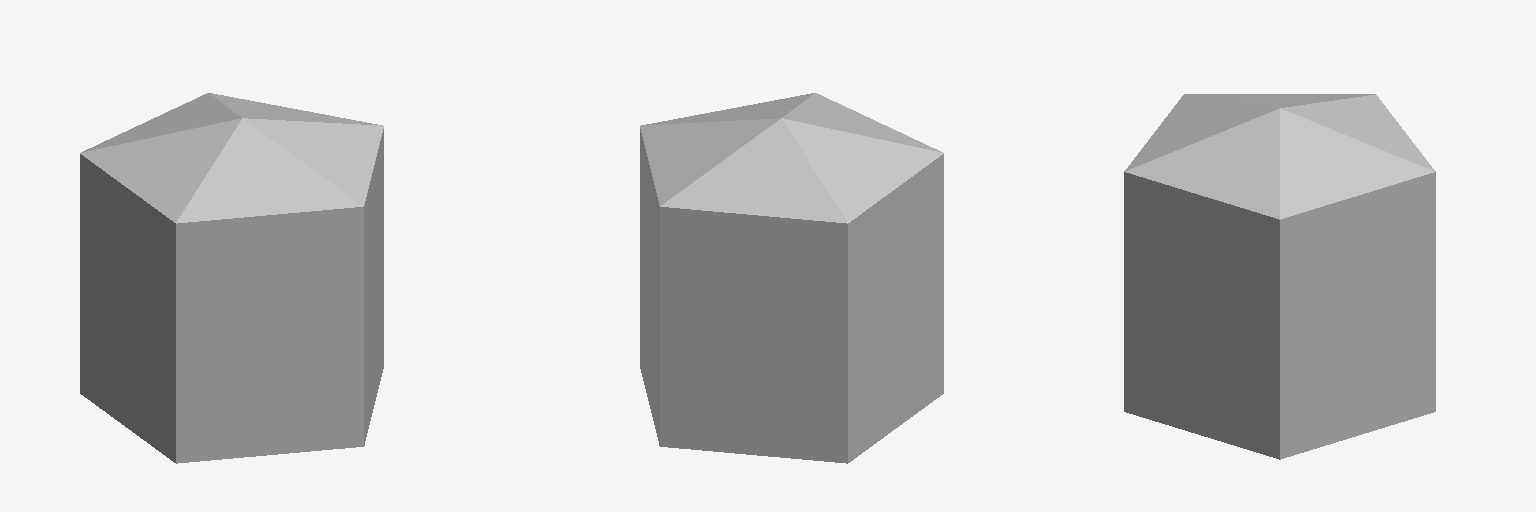
Rendered from bush_monster.obj.
3 renders of one model, left to right at view 1: azimuth 30°, elevation 25°; view 2: azimuth 150°, elevation 25°; view 3: azimuth 270°, elevation 25°, orthographic.
Visible parts, largest first — view 1: Icosphere; view 2: Icosphere; view 3: Icosphere.
Part boxes in pixels (x1,y1,x2,y2): Icosphere: (80,93,383,463); Icosphere: (640,93,943,463); Icosphere: (1124,94,1435,459).
Size of the model in its own units: 3.8 by 4 by 4.